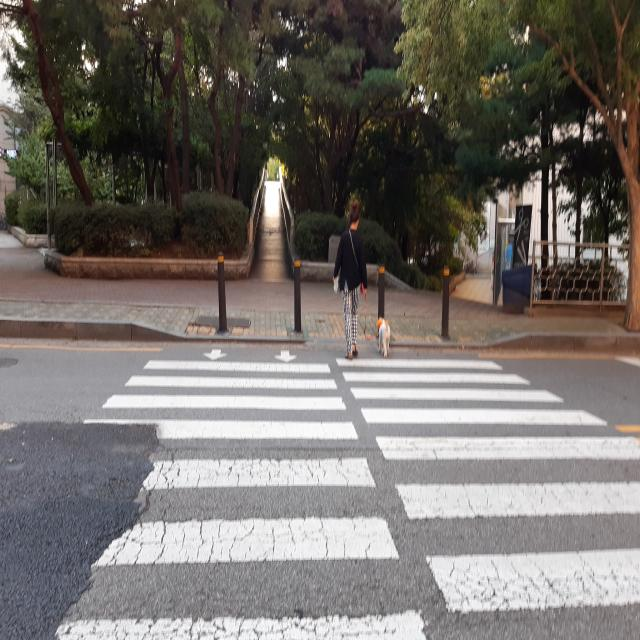횡단보도: (51, 346, 640, 640)
